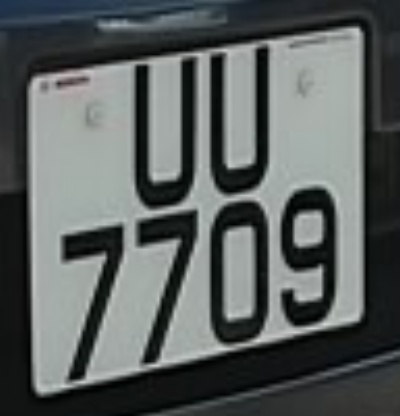0: (201, 194, 279, 360)
7: (54, 219, 134, 393), (131, 209, 207, 378)
9: (269, 183, 345, 345)
U: (120, 51, 209, 211), (202, 42, 283, 201)
